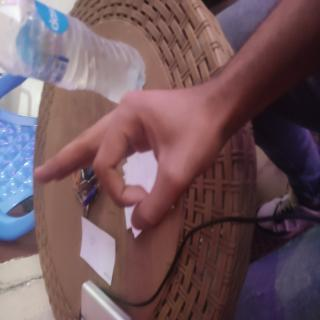Space: (61, 42, 184, 302)
